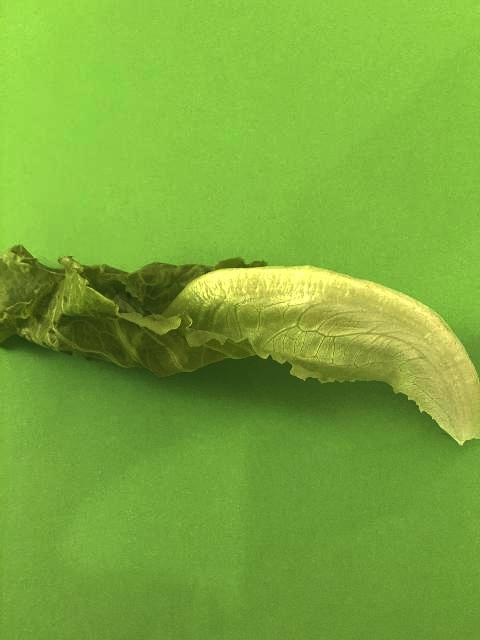lettuce: (0, 242, 480, 450)
